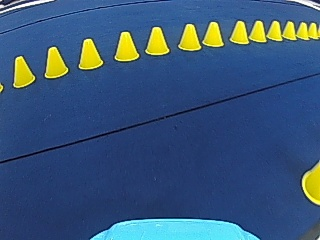cone: (78, 38, 104, 69), (114, 30, 139, 61), (45, 46, 68, 78), (12, 55, 35, 87), (145, 25, 169, 55), (302, 162, 318, 204), (179, 23, 202, 51), (203, 21, 224, 47), (229, 20, 249, 44), (249, 20, 266, 43), (267, 20, 282, 41), (282, 21, 296, 40), (296, 22, 309, 39), (307, 22, 318, 39)
